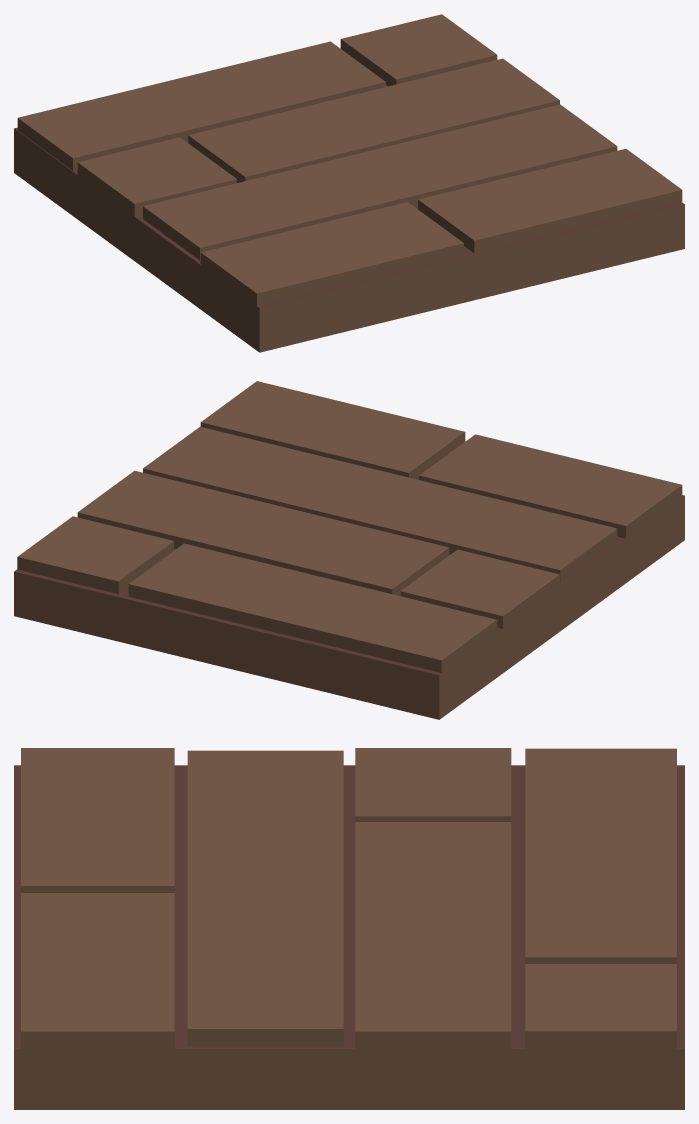
Rendered from Mesh_GroundPlanks_03.fbx.
3 views of the same model, one above another, from view 1: azimuth 30°, elevation 25°; view 2: azimuth 150°, elevation 25°; view 3: azimuth 270°, elevation 25° (orthographic). The views are drawn at different scales.
Parts seen in each view (by area): view 1: Mesh_GroundPlanks_03; view 2: Mesh_GroundPlanks_03; view 3: Mesh_GroundPlanks_03.
Boxes of the visible parts, x1,y1,x2,y2 form: Mesh_GroundPlanks_03: (14, 14, 684, 352); Mesh_GroundPlanks_03: (14, 381, 684, 719); Mesh_GroundPlanks_03: (14, 748, 684, 1109).
Bounding box in the file's own units: 1 × 0.1285 × 1.
